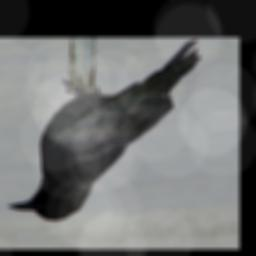Crow: (6, 38, 202, 222)
